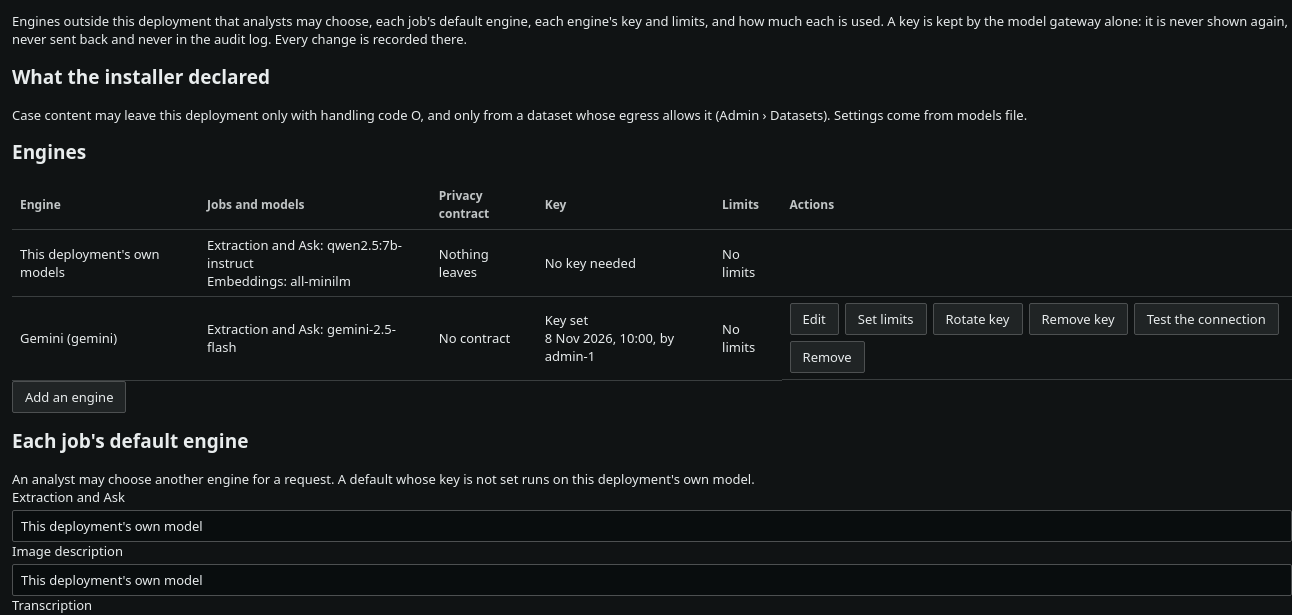
Test: Models › tests the connection and says what the gateway answered, in fixed words
Click the button with aria-label "Test the connection to Gemini".
click(1206, 319)  # box x1=1134 y1=303 x2=1279 y2=335
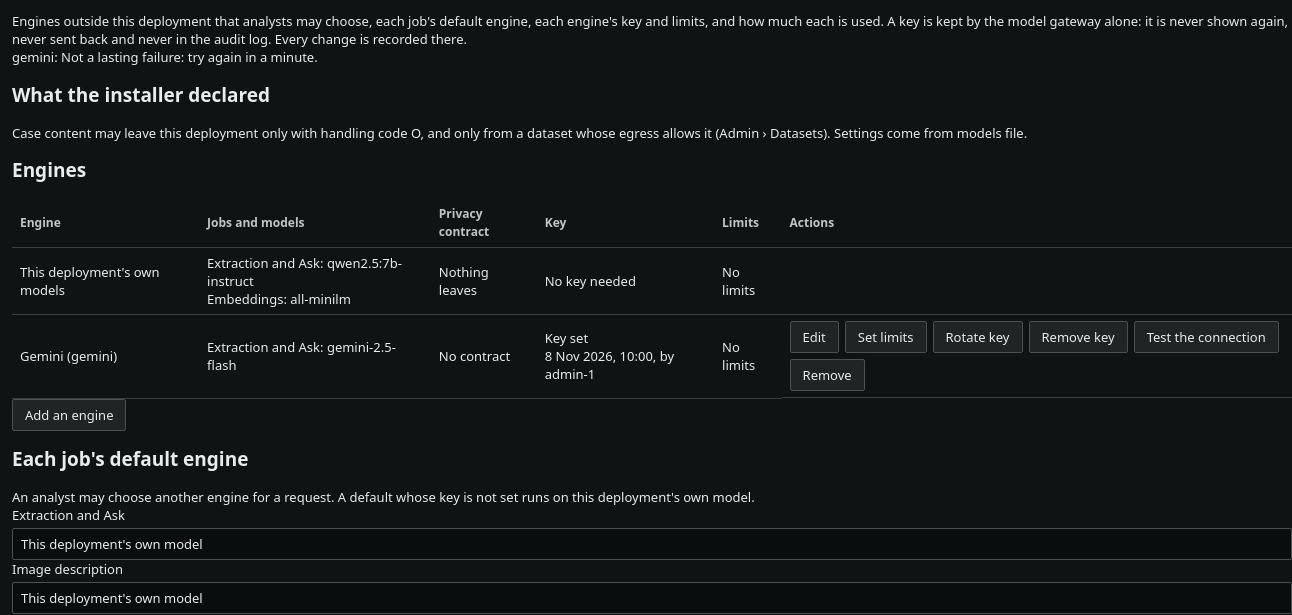
Check: the message shows "try again in a minute", box x1=12 y1=48 x2=318 y2=66
